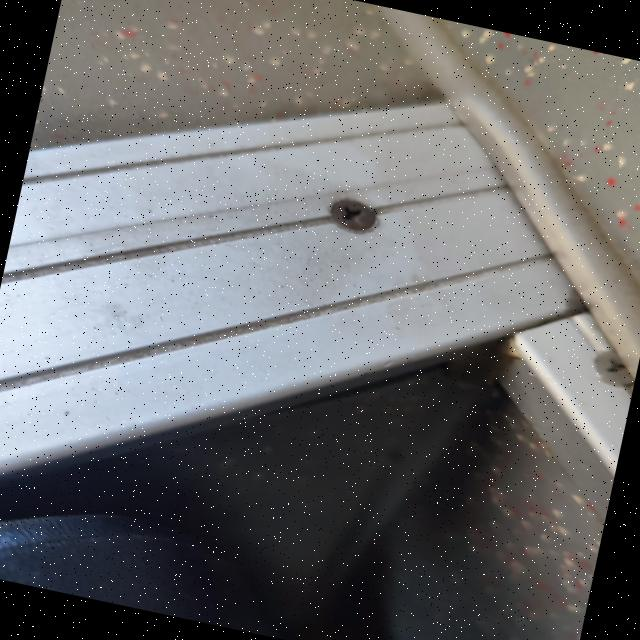Phillips: (316, 192, 386, 248)
